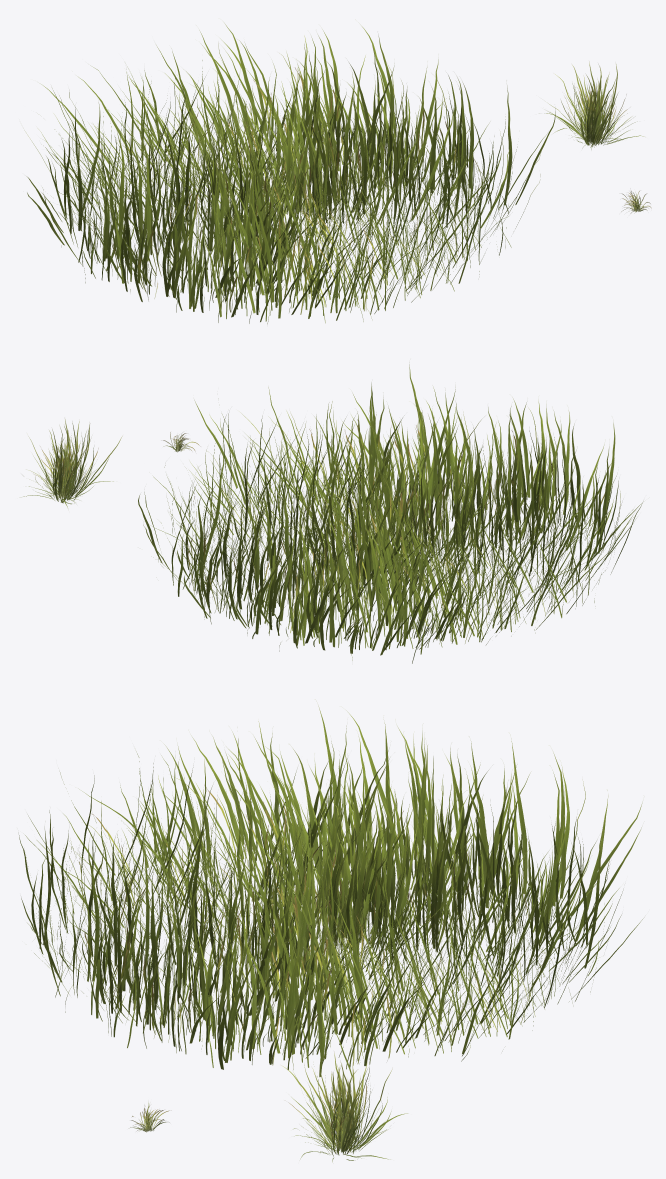
File: grass.glb
3 renders of one model, top to bottom at view 1: azimuth 30°, elevation 25°; view 2: azimuth 150°, elevation 25°; view 3: azimuth 270°, elevation 25°, orthographic. The views are drawn at different scales.
Parts seen in each view (by area): view 1: Grass1_Grass_Mat_0, GrassLawnAutumn_Grass3_Mat_0, Grass1_Grass2_Mat_0, Grass1_Grass1_Mat_0; view 2: Grass1_Grass_Mat_0, GrassLawnAutumn_Grass3_Mat_0, Grass1_Grass1_Mat_0, Grass1_Grass2_Mat_0; view 3: Grass1_Grass_Mat_0, GrassLawnAutumn_Grass3_Mat_0, Grass1_Grass1_Mat_0, Grass1_Grass2_Mat_0.
Part boxes in pixels (x1=…): Grass1_Grass_Mat_0: x1=26, y1=23, x2=647, y2=322; GrassLawnAutumn_Grass3_Mat_0: x1=40, y1=36, x2=546, y2=316; Grass1_Grass2_Mat_0: x1=93, y1=67, x2=651, y2=314; Grass1_Grass1_Mat_0: x1=25, y1=43, x2=631, y2=323; Grass1_Grass_Mat_0: x1=23, y1=364, x2=643, y2=655; GrassLawnAutumn_Grass3_Mat_0: x1=152, y1=387, x2=633, y2=649; Grass1_Grass1_Mat_0: x1=28, y1=409, x2=633, y2=663; Grass1_Grass2_Mat_0: x1=34, y1=419, x2=614, y2=647; Grass1_Grass_Mat_0: x1=19, y1=706, x2=643, y2=1161; GrassLawnAutumn_Grass3_Mat_0: x1=34, y1=721, x2=602, y2=1069; Grass1_Grass1_Mat_0: x1=26, y1=778, x2=604, y2=1154; Grass1_Grass2_Mat_0: x1=49, y1=785, x2=571, y2=1154.
Bounding box in the file's own units: 4.79 × 1.02 × 3.57.
Materials: 4 (4 with a texture image).
